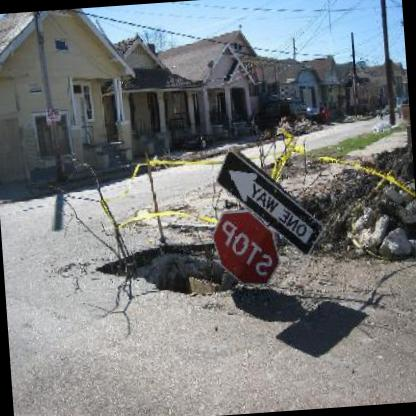pothole: (92, 231, 246, 305)
